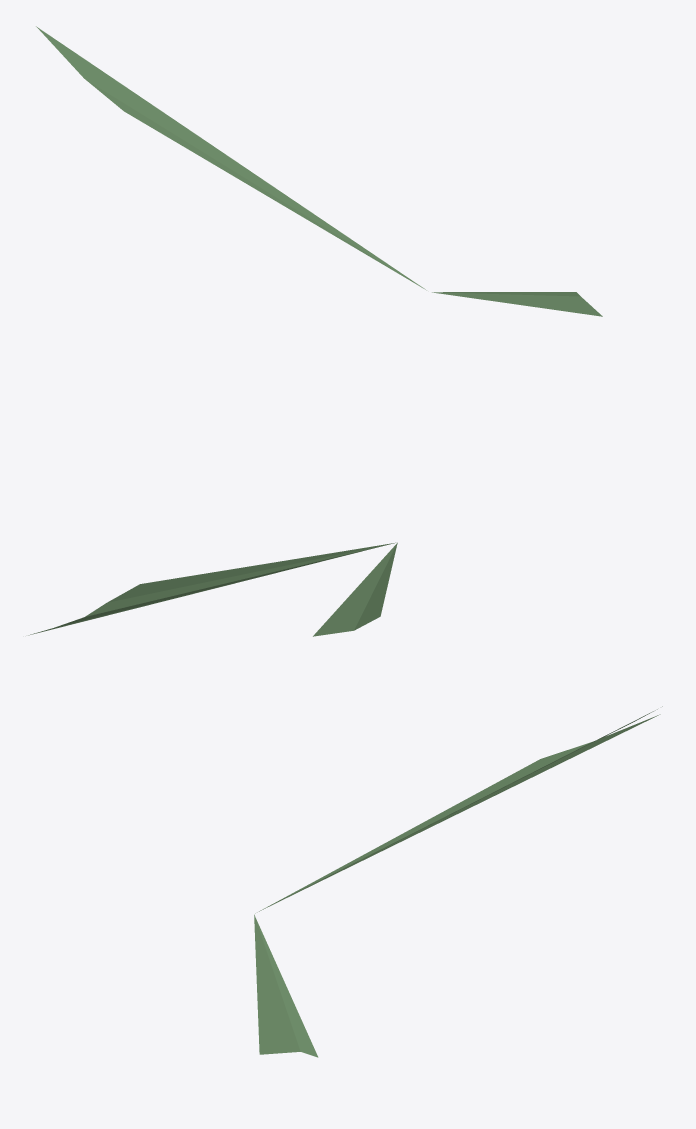
The model's file is c_1671_17820_forest.glb.
The picture shows the model from 3 angles, top to bottom: view 1: azimuth 30°, elevation 25°; view 2: azimuth 150°, elevation 25°; view 3: azimuth 270°, elevation 25°; orthographic projection. The views are drawn at different scales.
Visible parts, largest first — view 1: geometry_0; view 2: geometry_0; view 3: geometry_0.
Boxes of the visible parts, left/top/right/bottom form: geometry_0: left=36, top=26, right=602, bottom=316; geometry_0: left=28, top=542, right=397, bottom=636; geometry_0: left=254, top=706, right=662, bottom=1057.
Size of the model in its own units: 293 by 167 by 444.
